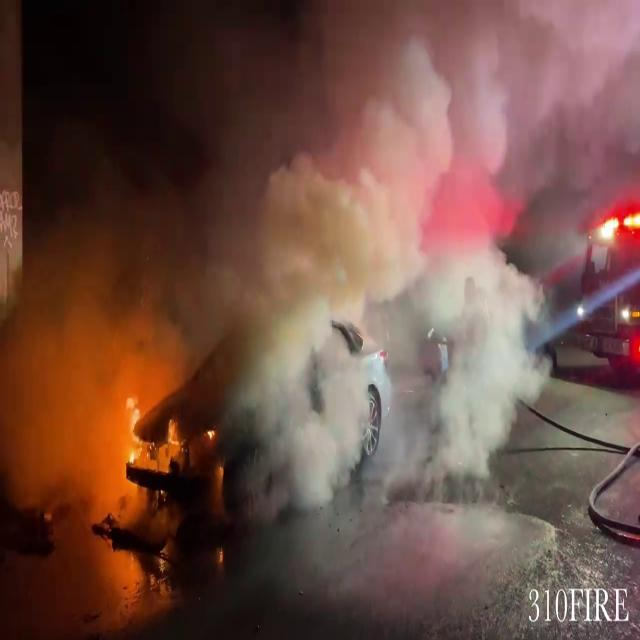Fire: (112, 380, 148, 503)
Smoke: (12, 0, 618, 533)
